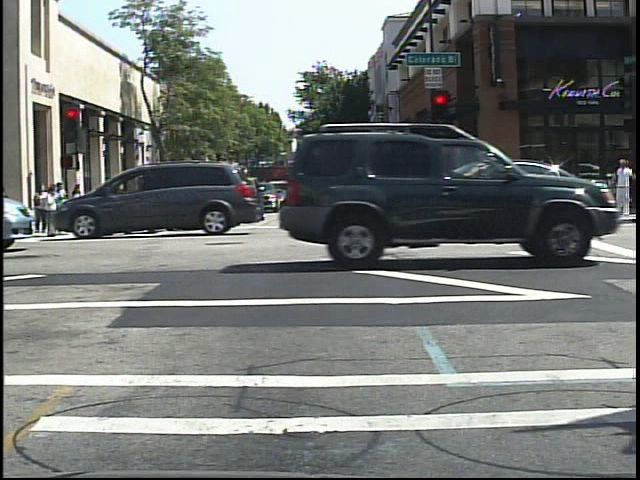person: (611, 154, 637, 221), (165, 181, 183, 221)
